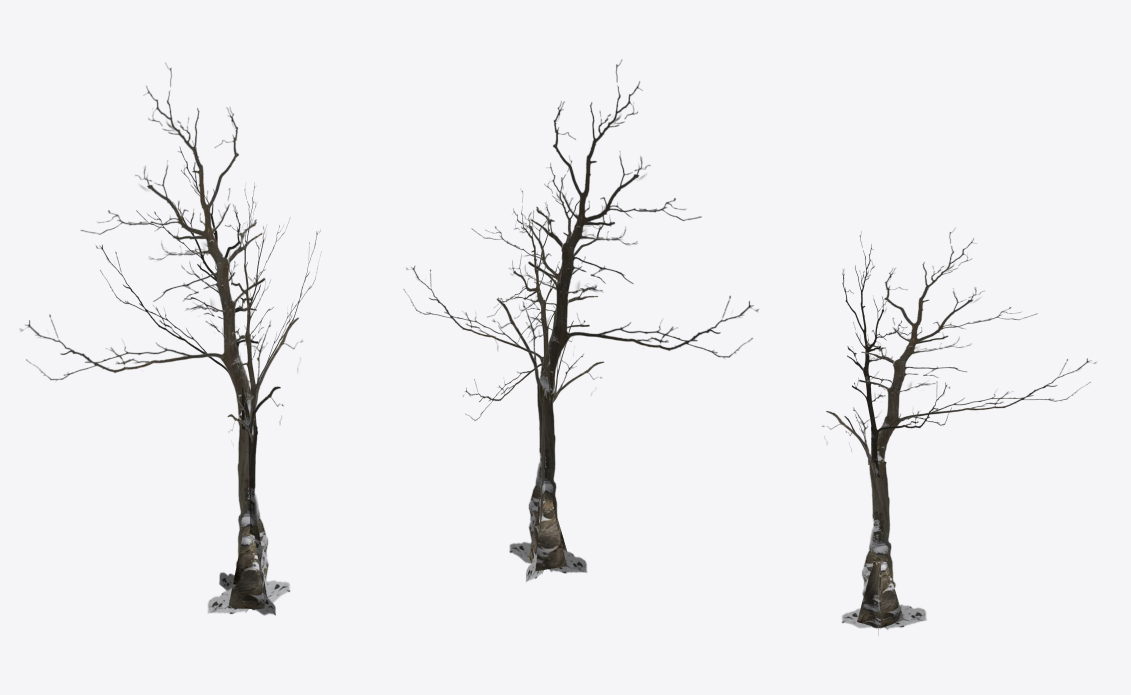
Rendered from snowtree2.glb.
The picture shows the model from 3 angles, left to right: view 1: azimuth 30°, elevation 25°; view 2: azimuth 150°, elevation 25°; view 3: azimuth 270°, elevation 25°; orthographic projection. The views are drawn at different scales.
Visible parts, largest first — view 1: TreeBareTall; view 2: TreeBareTall; view 3: TreeBareTall.
Part boxes in pixels (box(x1,y1,x2,y2)): TreeBareTall: box(19, 62, 321, 615); TreeBareTall: box(403, 59, 759, 582); TreeBareTall: box(821, 227, 1097, 635).
Size of the model in its own units: 12.61 by 19.08 by 10.65.
1 material, 1 textured.
